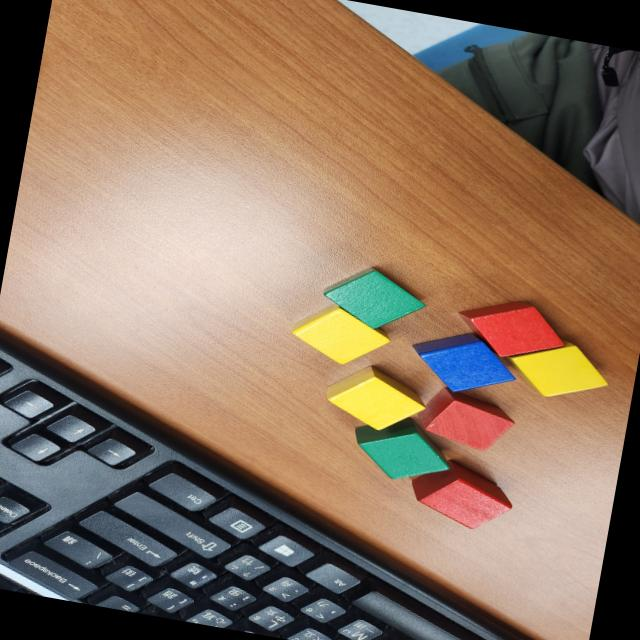blue: (404, 322, 520, 402)
green: (346, 408, 458, 490), (316, 258, 430, 338)
red: (404, 453, 518, 536), (451, 291, 572, 368), (410, 382, 519, 456)
yellow: (285, 296, 398, 374), (322, 360, 429, 439), (506, 331, 614, 408)
